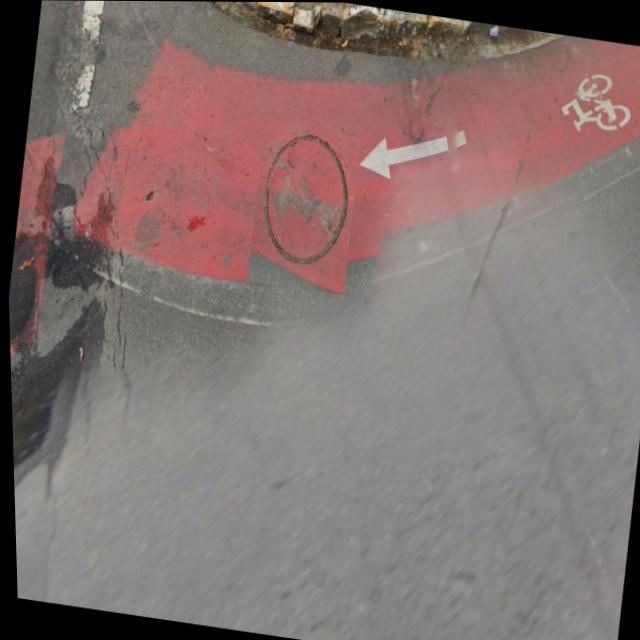Bueiro: (242, 110, 366, 295)
